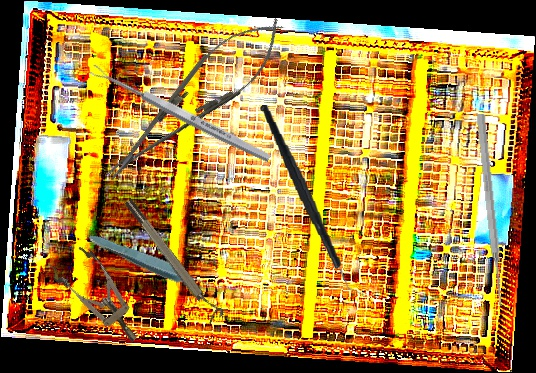Chopper: (259, 98, 366, 304)
Fixation Ring: (122, 193, 226, 325)
Needle Holder: (89, 1, 298, 198)
Pusher: (474, 113, 507, 307)
Speculum: (47, 241, 153, 356)
Surgical Spoon: (88, 62, 273, 165)
Tissue Forceps: (85, 229, 216, 298)
